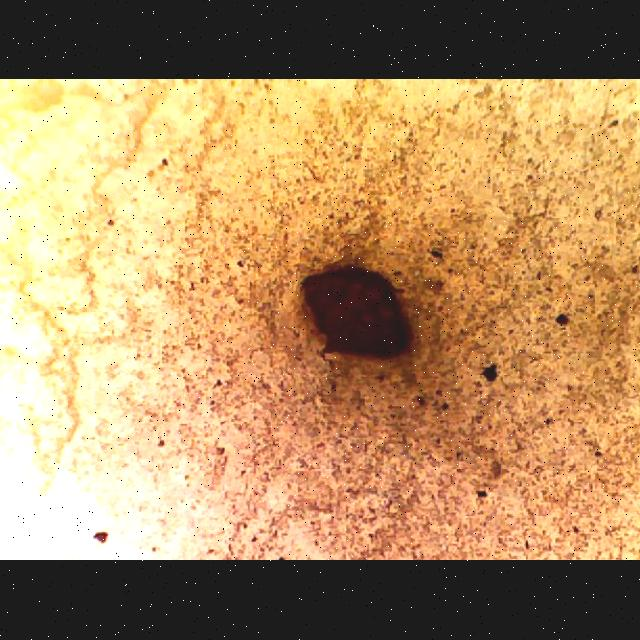Fragment: (290, 258, 420, 372)
